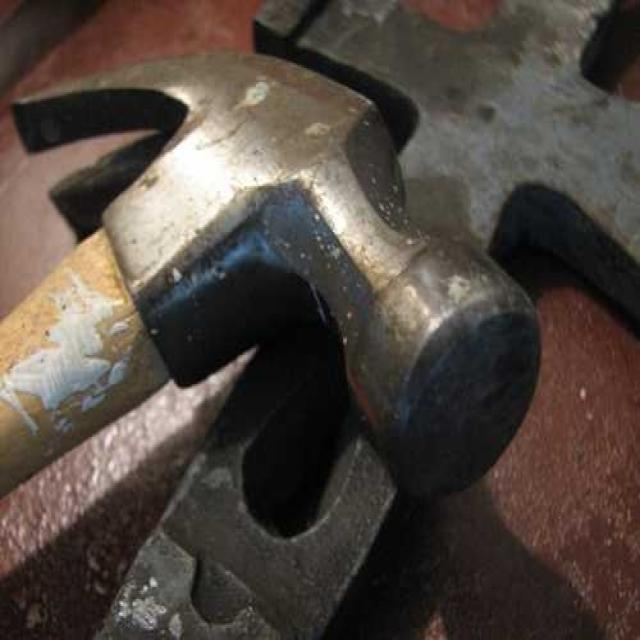hammer: (11, 34, 542, 634)
